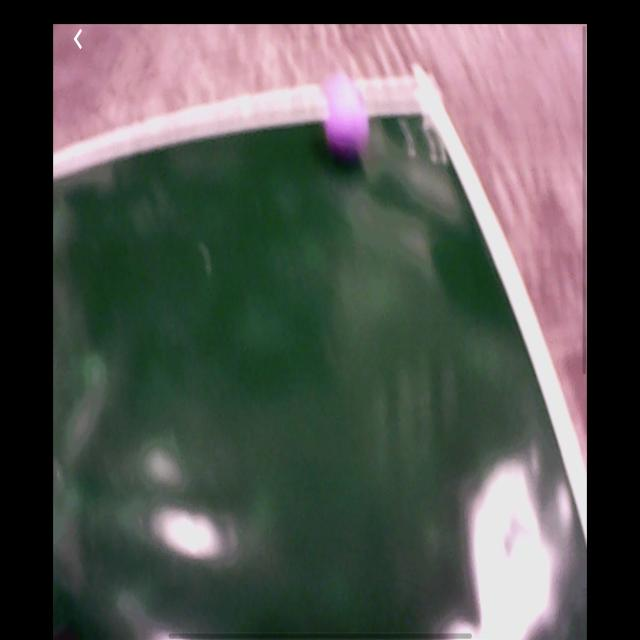ball: (320, 68, 370, 162)
